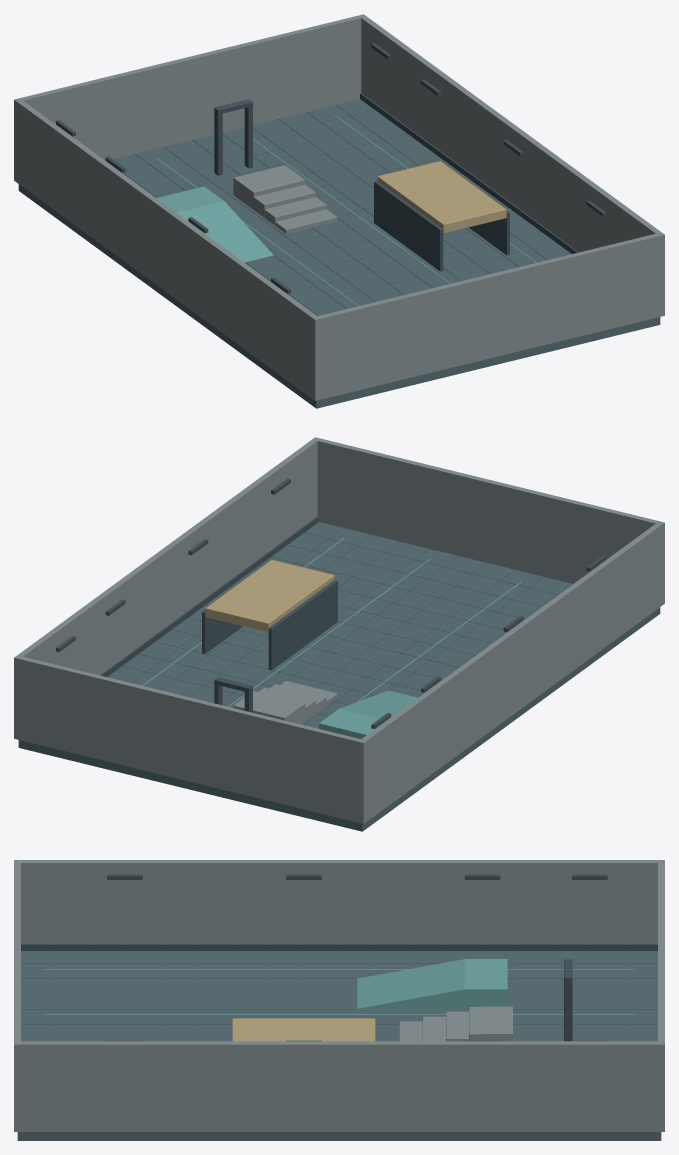
File: T02_ControllerLab.fbx
The picture shows the model from 3 angles, top to bottom: view 1: azimuth 30°, elevation 25°; view 2: azimuth 150°, elevation 25°; view 3: azimuth 270°, elevation 25°; orthographic projection. The views are drawn at different scales.
Parts seen in each view (by area): view 1: SM_ENV_T02_WallFront, SM_ENV_T02_WallLeft, SM_ENV_T02_WallBack, SM_ENV_T02_WallRight, SM_ENV_T02_Foundation, SM_ENV_T02_CrouchRoof, SM_ENV_T02_CrouchSide, SM_ENV_T02_Ramp, SM_ENV_T02_Skirting.001, SM_ENV_T02_StepLanding, SM_ENV_T02_RampLanding, SM_ENV_T02_Step_3 (+6 smaller); view 2: SM_ENV_T02_WallBack, SM_ENV_T02_WallLeft, SM_ENV_T02_WallFront, SM_ENV_T02_WallRight, SM_ENV_T02_Foundation, SM_ENV_T02_CrouchRoof, SM_ENV_T02_CrouchSide, SM_ENV_T02_Skirting.001, SM_ENV_T02_Ramp, SM_ENV_T02_RampLanding, SM_ENV_T02_StepLanding, SM_ENV_T02_CrouchSide.001; view 3: SM_ENV_T02_WallRight, SM_ENV_T02_WallLeft, SM_ENV_T02_Foundation, SM_ENV_T02_Ramp, SM_ENV_T02_Skirting, SM_ENV_T02_CrouchRoof, SM_ENV_T02_RampLanding, SM_ENV_T02_WallBack, SM_ENV_T02_WallFront, SM_ENV_T02_StepLanding, SM_ENV_T02_LaneStripe.001, SM_ENV_T02_Step_3 (+78 smaller).
Part boxes in pixels (bbox=[...]): SM_ENV_T02_WallFront: bbox=[318, 233, 661, 400]; SM_ENV_T02_WallLeft: bbox=[14, 99, 320, 400]; SM_ENV_T02_WallBack: bbox=[17, 15, 363, 160]; SM_ENV_T02_WallRight: bbox=[361, 14, 664, 316]; SM_ENV_T02_Foundation: bbox=[18, 184, 660, 408]; SM_ENV_T02_CrouchRoof: bbox=[377, 161, 506, 233]; SM_ENV_T02_CrouchSide: bbox=[374, 181, 443, 271]; SM_ENV_T02_Ramp: bbox=[176, 201, 273, 262]; SM_ENV_T02_Skirting.001: bbox=[360, 93, 578, 253]; SM_ENV_T02_StepLanding: bbox=[233, 165, 299, 203]; SM_ENV_T02_RampLanding: bbox=[156, 186, 223, 212]; SM_ENV_T02_Step_3: bbox=[253, 184, 315, 217]; SM_ENV_T02_WallBack: bbox=[17, 656, 363, 823]; SM_ENV_T02_WallLeft: bbox=[358, 521, 664, 823]; SM_ENV_T02_WallFront: bbox=[317, 438, 658, 583]; SM_ENV_T02_WallRight: bbox=[14, 437, 320, 739]; SM_ENV_T02_Foundation: bbox=[18, 607, 660, 831]; SM_ENV_T02_CrouchRoof: bbox=[205, 560, 334, 632]; SM_ENV_T02_CrouchSide: bbox=[268, 580, 337, 670]; SM_ENV_T02_Skirting.001: bbox=[100, 516, 318, 676]; SM_ENV_T02_Ramp: bbox=[339, 690, 417, 719]; SM_ENV_T02_RampLanding: bbox=[319, 709, 385, 738]; SM_ENV_T02_StepLanding: bbox=[233, 696, 299, 724]; SM_ENV_T02_CrouchSide.001: bbox=[202, 609, 242, 653]; SM_ENV_T02_WallRight: bbox=[14, 1041, 664, 1131]; SM_ENV_T02_WallLeft: bbox=[14, 860, 664, 943]; SM_ENV_T02_Foundation: bbox=[17, 951, 661, 1140]; SM_ENV_T02_Ramp: bbox=[357, 959, 464, 1009]; SM_ENV_T02_Skirting: bbox=[21, 944, 657, 951]; SM_ENV_T02_CrouchRoof: bbox=[232, 1018, 375, 1041]; SM_ENV_T02_RampLanding: bbox=[464, 959, 507, 1009]; SM_ENV_T02_WallBack: bbox=[658, 861, 664, 1042]; SM_ENV_T02_WallFront: bbox=[14, 863, 20, 1041]; SM_ENV_T02_StepLanding: bbox=[480, 1006, 512, 1041]; SM_ENV_T02_LaneStripe.001: bbox=[44, 1014, 634, 1015]; SM_ENV_T02_Step_3: bbox=[446, 1011, 468, 1041].
Bounding box in the file's own units: 12.2 × 3.02 × 18.2.
